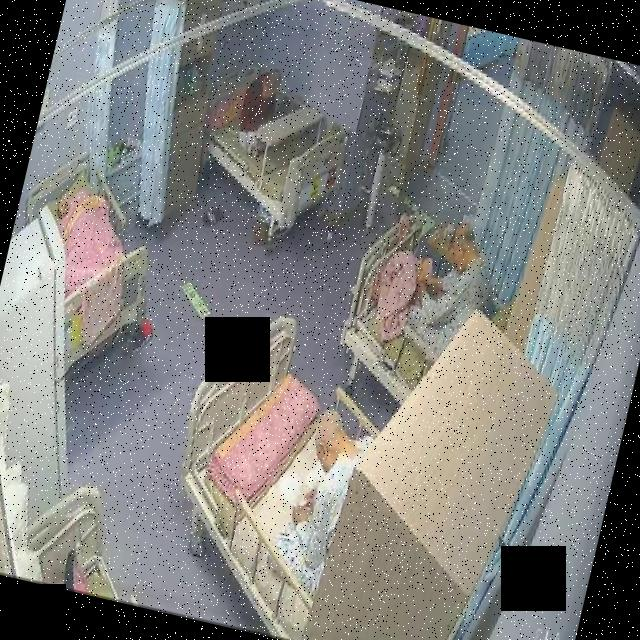bed: (143, 302, 403, 640), (0, 142, 176, 383), (332, 210, 502, 418), (184, 53, 358, 239)
patient: (264, 400, 374, 602), (398, 214, 503, 374), (231, 62, 291, 163)
sit: (356, 202, 504, 367), (264, 398, 376, 603), (232, 64, 290, 160)
